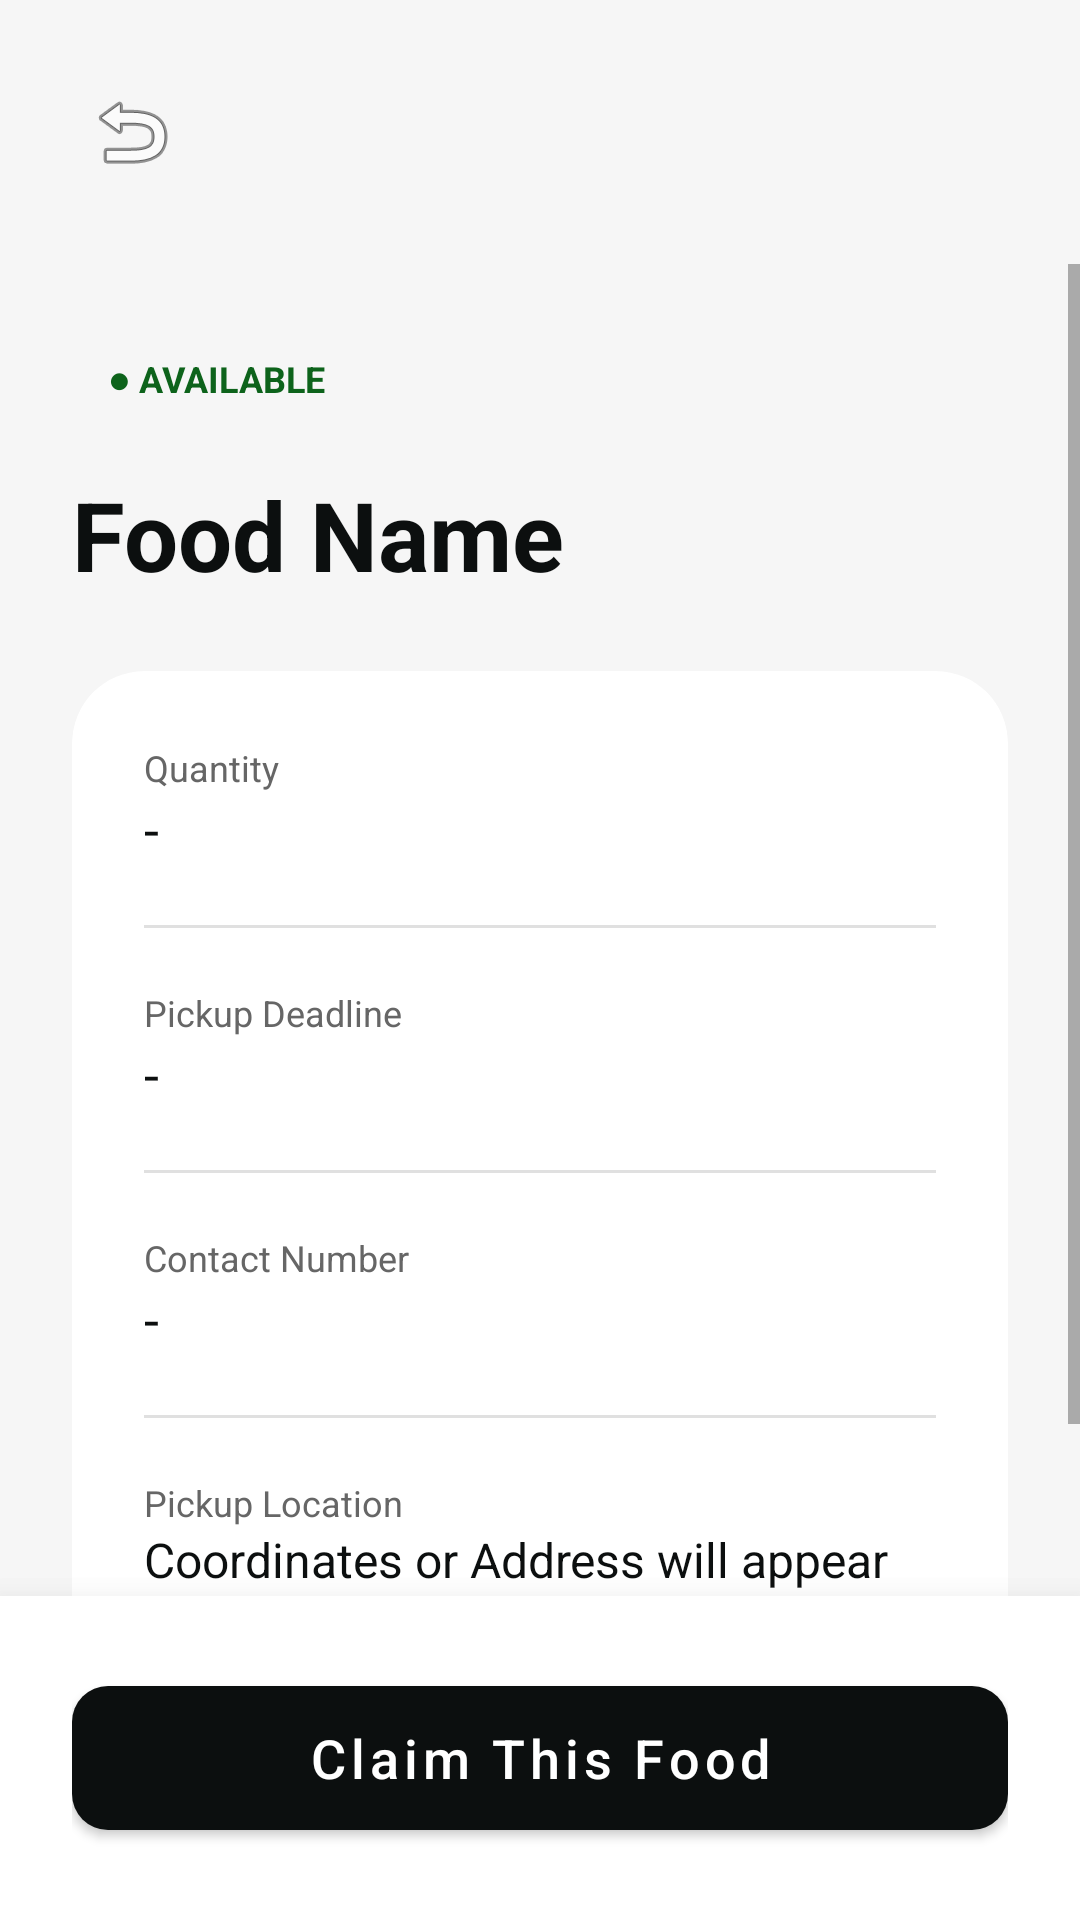

Locate icon controls on the screen. Image size 1080w x 1920h, boxes as detection(x1, y1, x2, y2).
Back: detection(99, 101, 168, 164)
